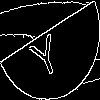Y: (25, 24, 64, 81)
